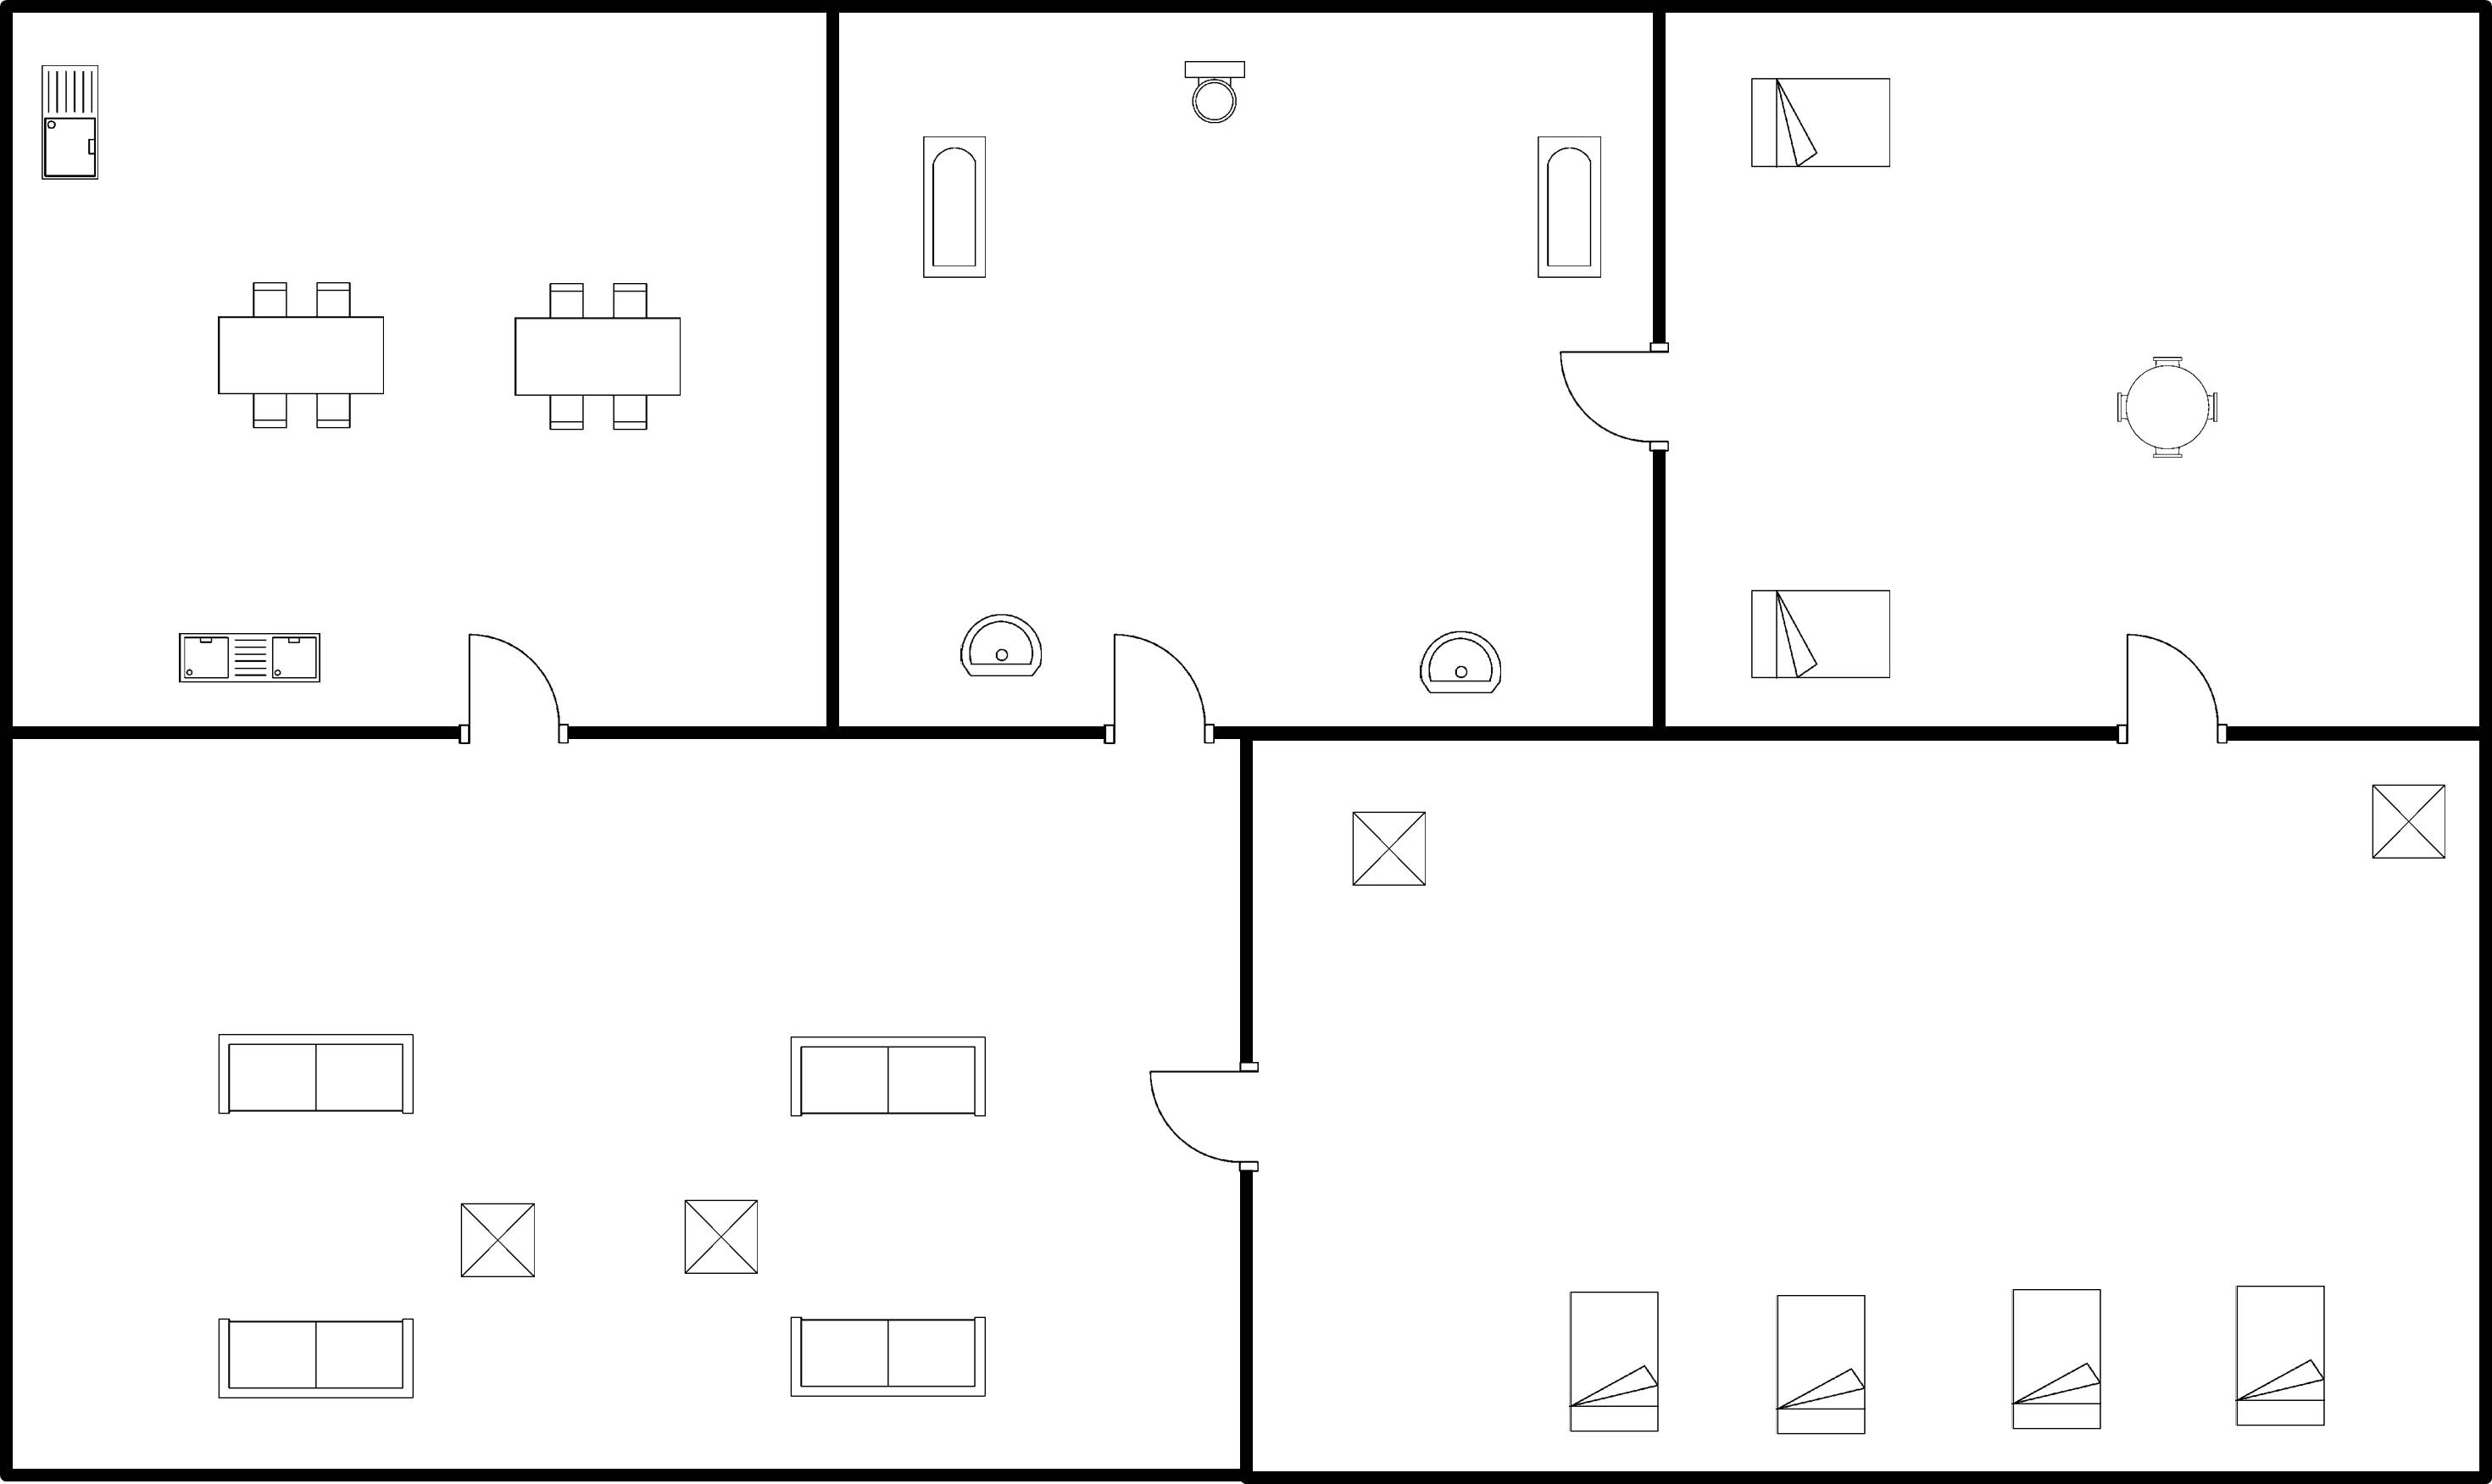bed: (2222, 1270, 2344, 1442), (1738, 67, 1907, 182), (1739, 575, 1904, 694), (1766, 1280, 1879, 1446), (2001, 1278, 2112, 1444), (1558, 1280, 1669, 1442)
coffee_table: (1337, 795, 1438, 898), (2361, 777, 2463, 877), (450, 1187, 544, 1291), (675, 1190, 770, 1284)
dining_table: (502, 270, 696, 445), (205, 270, 404, 440)
large_sink: (1164, 47, 1260, 131)
large_sofa: (209, 1017, 424, 1130), (205, 1309, 422, 1415), (774, 1028, 998, 1128), (779, 1307, 1001, 1407)
round_table: (2105, 341, 2234, 473)
sink: (26, 53, 115, 191)
small_sink: (952, 602, 1054, 692), (1405, 621, 1510, 710)
tub: (1522, 125, 1614, 290), (909, 120, 994, 288)
twin_sink: (166, 620, 336, 694)
